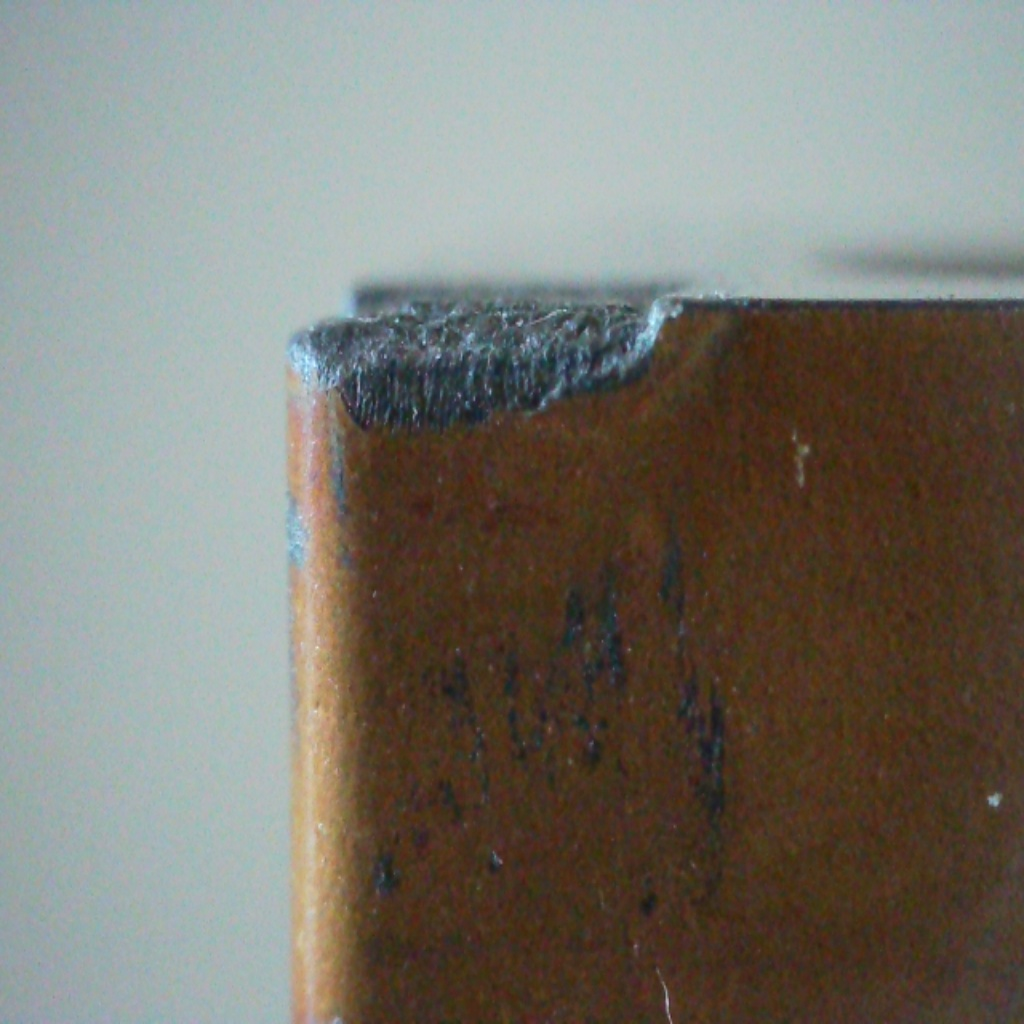flank_wear: (283, 300, 686, 431)
